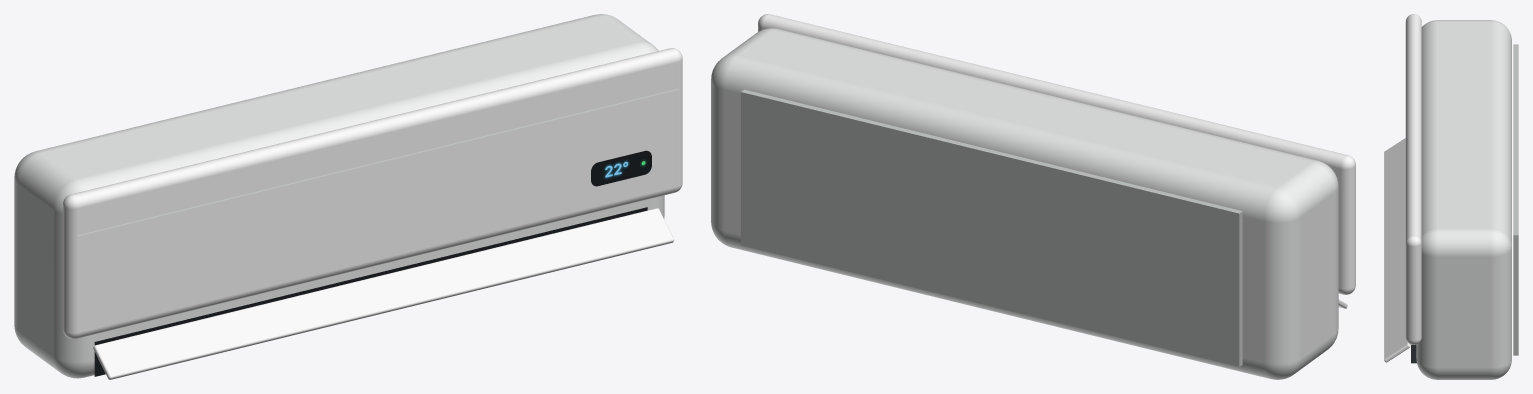
The model's file is 02_clim_murale.glb.
3 renders of one model, left to right at view 1: azimuth 30°, elevation 25°; view 2: azimuth 150°, elevation 25°; view 3: azimuth 270°, elevation 25°, orthographic. The views are drawn at different scales.
Parts seen in each view (by area): view 1: Clim_facade_panneau, Clim_corps, Clim_volet_lame, Clim_sortie_air, Clim_ecran_22; view 2: Clim_plaque_murale, Clim_corps, Clim_facade_panneau; view 3: Clim_corps, Clim_facade_panneau, Clim_volet_lame, Clim_plaque_murale.
Boxes of the visible parts, x1=… form: Clim_facade_panneau: x1=63, y1=48, x2=682, y2=339; Clim_corps: x1=14, y1=14, x2=664, y2=378; Clim_volet_lame: x1=93, y1=208, x2=674, y2=379; Clim_sortie_air: x1=94, y1=207, x2=647, y2=376; Clim_ecran_22: x1=591, y1=150, x2=651, y2=186; Clim_plaque_murale: x1=741, y1=89, x2=1242, y2=366; Clim_corps: x1=711, y1=28, x2=1338, y2=379; Clim_facade_panneau: x1=758, y1=14, x2=1355, y2=294; Clim_corps: x1=1416, y1=20, x2=1511, y2=379; Clim_facade_panneau: x1=1405, y1=14, x2=1421, y2=344; Clim_volet_lame: x1=1384, y1=138, x2=1410, y2=362; Clim_plaque_murale: x1=1513, y1=44, x2=1518, y2=355.
Size of the model in its own units: 2.03 by 0.62 by 0.5062.
Materials: 8 (1 with a texture image).
